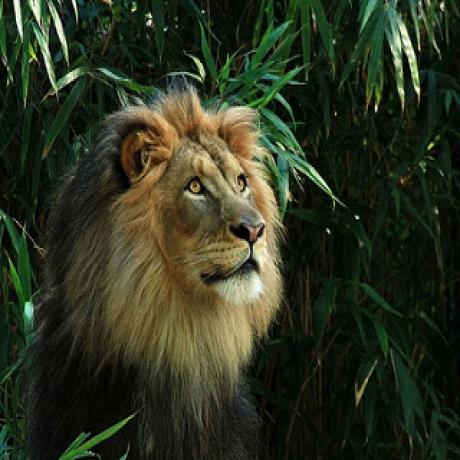Lion: (32, 86, 281, 460)
